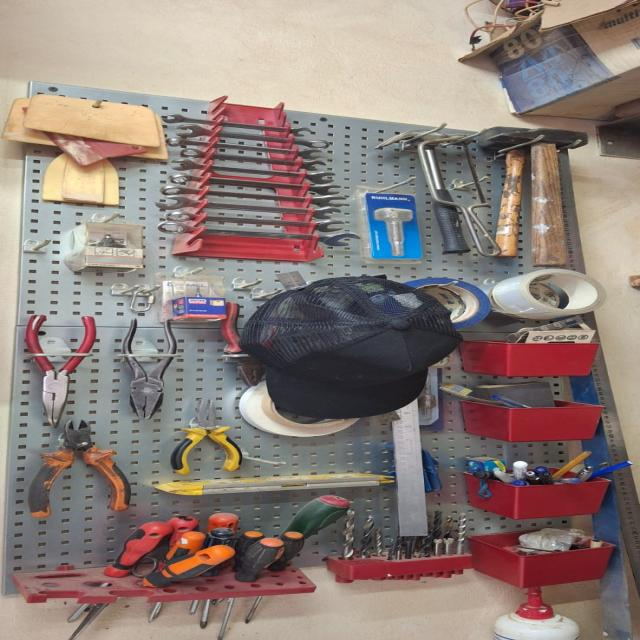Gorra: (236, 277, 466, 421)
